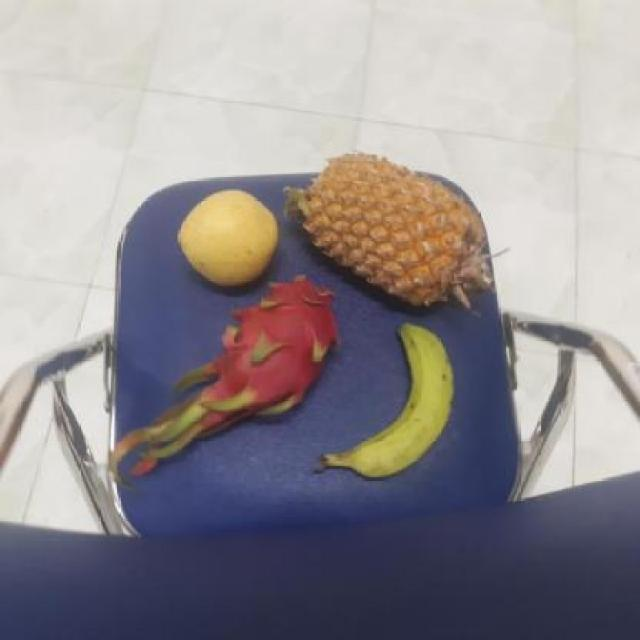banana: (318, 318, 454, 480)
dragon fruit: (204, 276, 341, 418)
pear: (172, 188, 280, 288)
pineapple: (290, 146, 488, 317)
